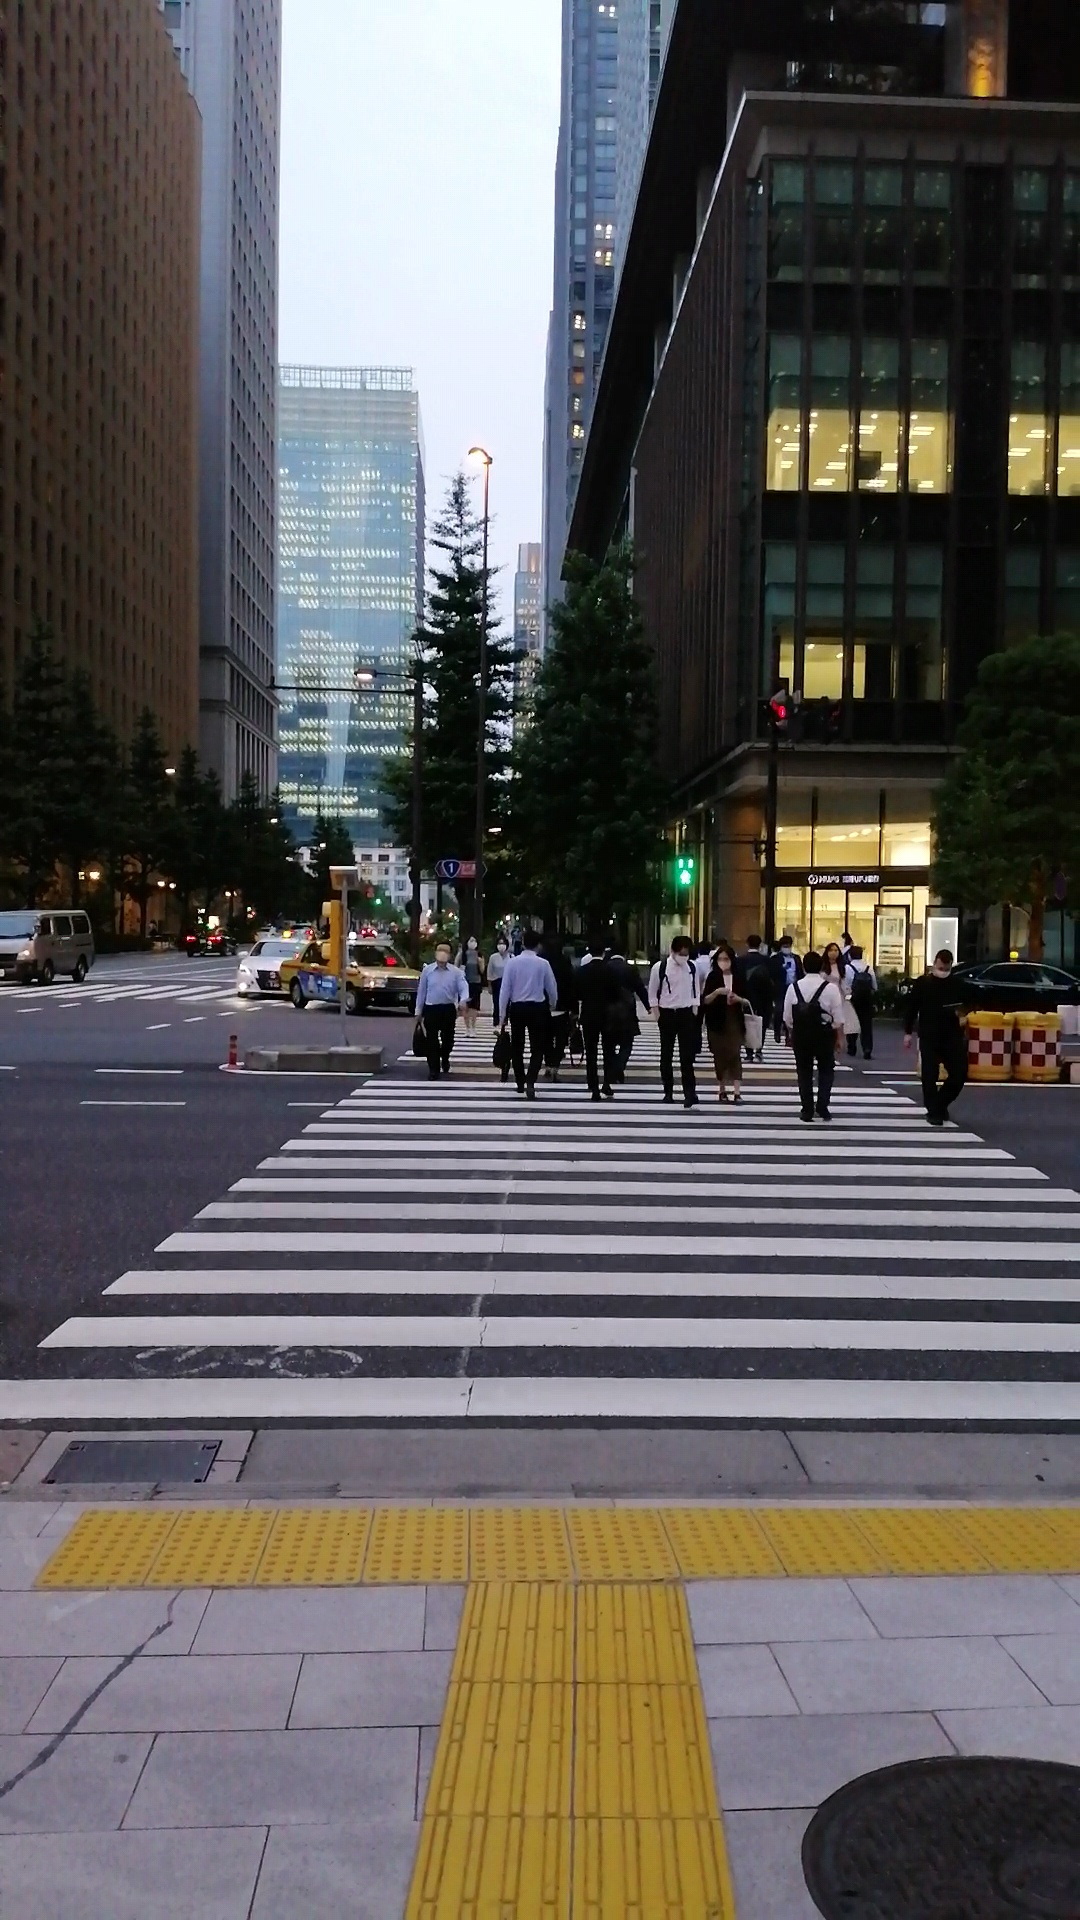green: (675, 853, 695, 889)
